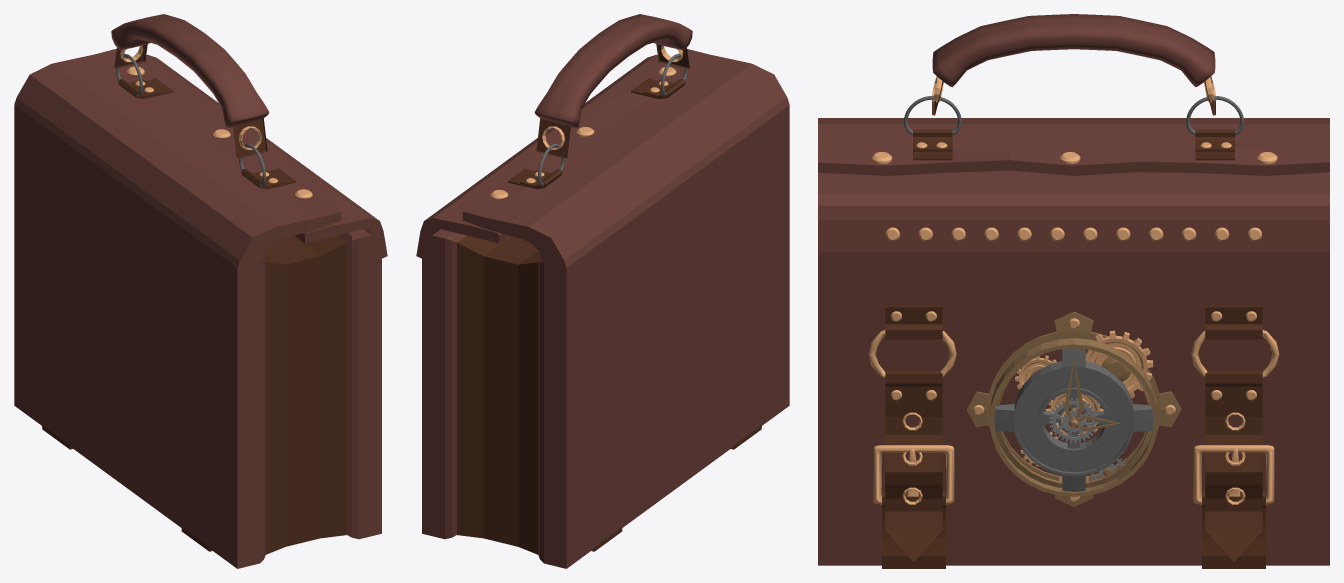
File: Bag.fbx
The picture shows the model from 3 angles, left to right: view 1: azimuth 30°, elevation 25°; view 2: azimuth 150°, elevation 25°; view 3: azimuth 270°, elevation 25°; orthographic projection. The views are drawn at different scales.
Visible parts, largest first — view 1: Cube, Cube.001, Torus.008, Torus.007, Torus.001; view 2: Cube, Cube.001, Torus.003, Torus.001, Torus.007; view 3: Cube, Cylinder.002, Cube.001, Circle.002, Cube.005, Cube.016, Torus.011, Cube.002, Cube.017, Cube.004, Cube.019, Cube.009 (+9 smaller).
Part boxes in pixels (x1,y1,x2,y2): Cube: (14, 48, 387, 568); Cube.001: (111, 14, 269, 128); Torus.008: (233, 118, 267, 158); Torus.007: (241, 168, 295, 189); Torus.001: (118, 78, 172, 98); Cube: (416, 49, 789, 568); Cube.001: (534, 14, 692, 128); Torus.003: (536, 118, 570, 158); Torus.001: (508, 168, 562, 188); Torus.007: (631, 78, 685, 98); Cube: (818, 118, 1329, 565); Cylinder.002: (994, 348, 1153, 491); Cube.001: (932, 14, 1215, 87); Circle.002: (966, 311, 1181, 506); Cube.005: (1205, 404, 1262, 561); Cube.016: (885, 404, 942, 561); Torus.011: (885, 227, 1261, 241); Cube.002: (1202, 491, 1265, 568); Cube.017: (882, 491, 945, 568); Cube.004: (1205, 305, 1262, 339); Cube.019: (885, 305, 942, 339); Cube.009: (1205, 370, 1262, 403).
Size of the model in its own units: 186 by 424 by 390.
